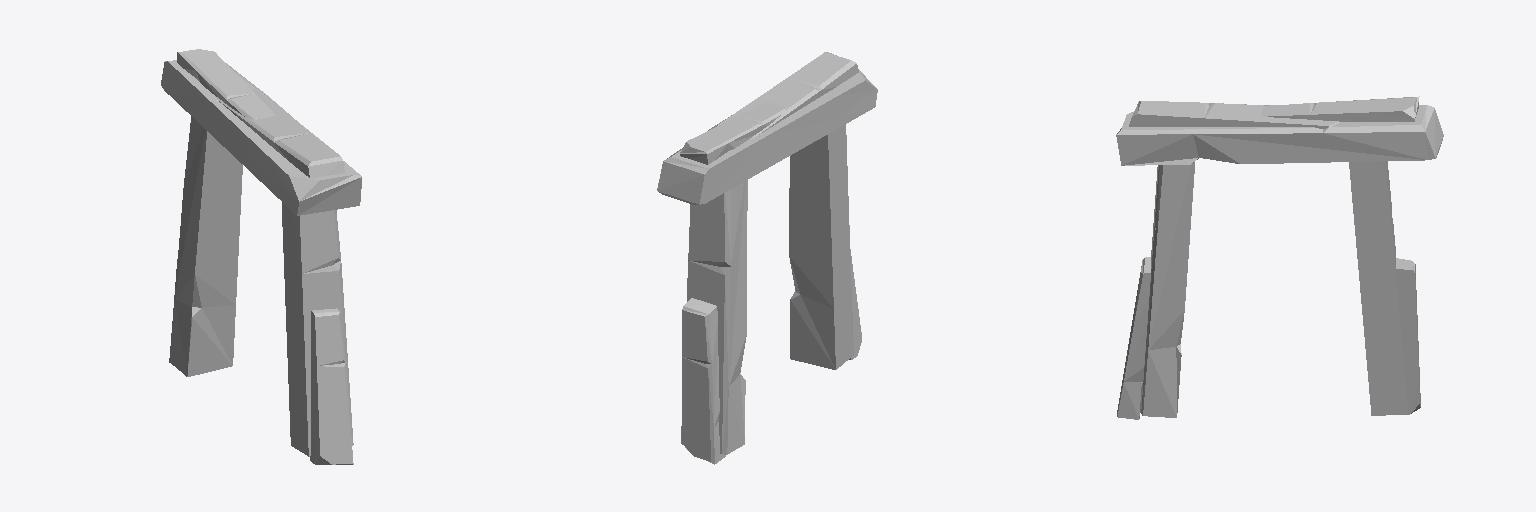
The model's file is landmark--gate.obj.
The picture shows the model from 3 angles: view 1: azimuth 30°, elevation 25°; view 2: azimuth 150°, elevation 25°; view 3: azimuth 270°, elevation 25°; orthographic projection.
Parts seen in each view (by area): view 1: gate_Cube.016; view 2: gate_Cube.016; view 3: gate_Cube.016.
Boxes of the visible parts, <box> form: gate_Cube.016: <box>161,49,361,464</box>; gate_Cube.016: <box>657,52,877,464</box>; gate_Cube.016: <box>1116,96,1443,419</box>.
Bounding box in the file's own units: 1.52 × 6.81 × 6.49.